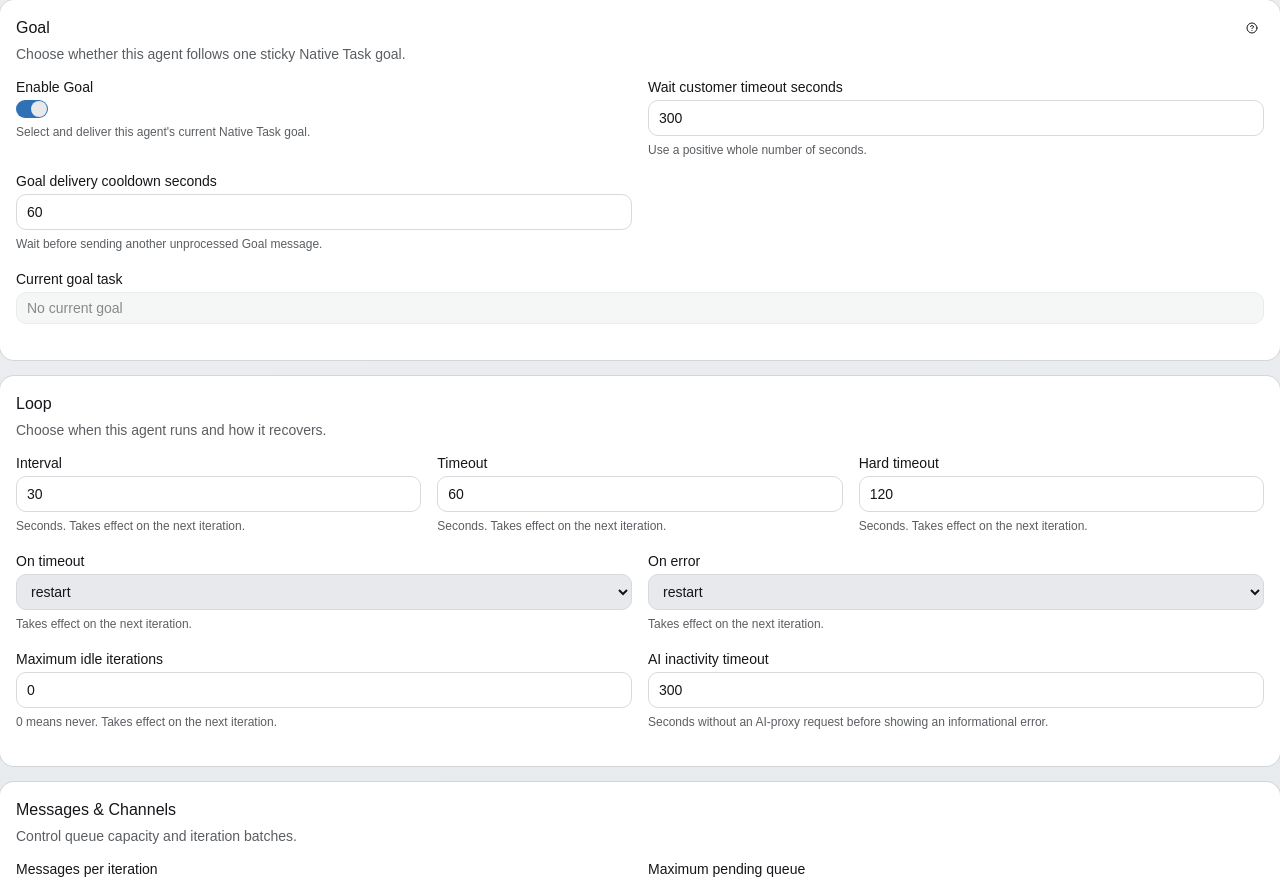
Test: rejects Goal timeout 1.5 before saving
This screenshot has width=1280, height=877.
Replace the text in the number field labelled "Wait customer timeout seconds" with "1.5": [956, 118] box [648,100,1264,136]
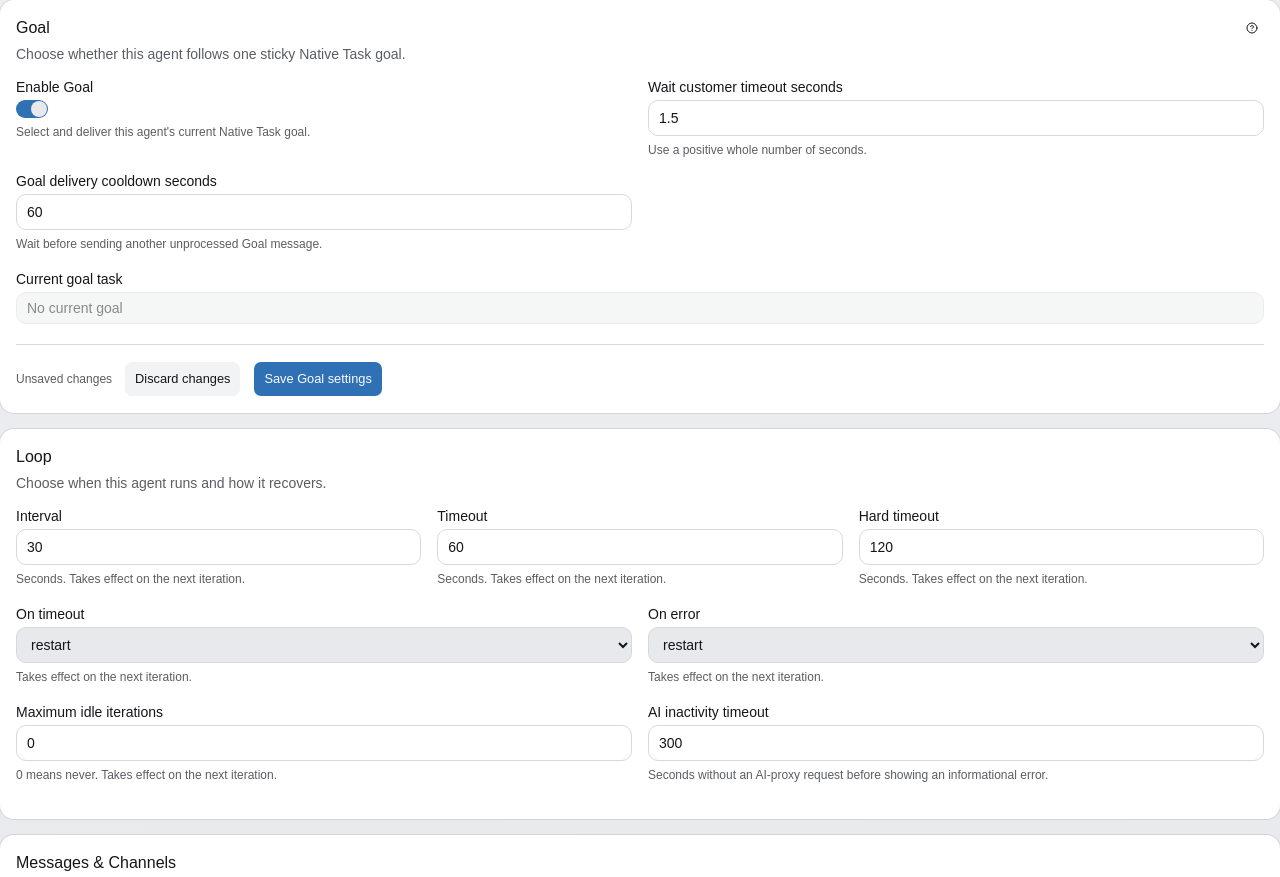
Click the button "Save Goal settings": [318, 379] box [253,361,383,397]
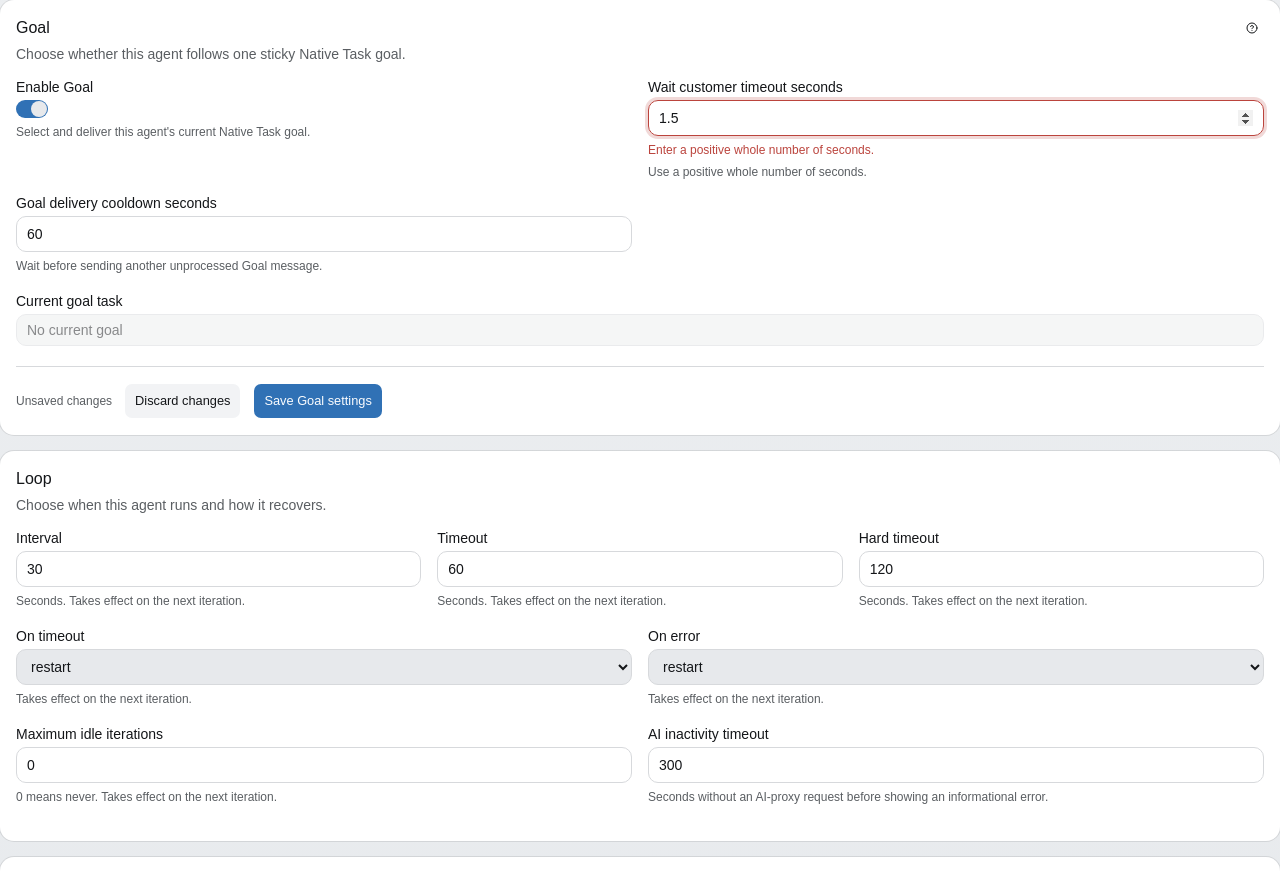
Now the message "Enter a positive whole number of seconds." is shown, box [648,143,874,157]
